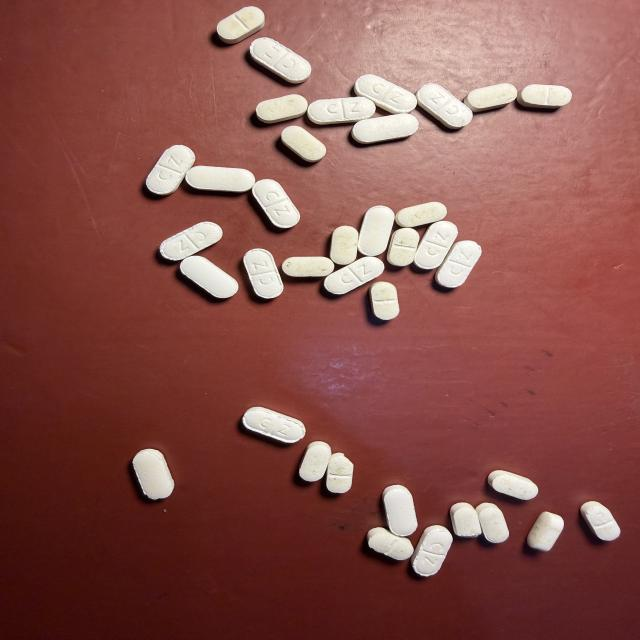pill: (250, 38, 311, 83), (146, 145, 195, 195), (180, 256, 238, 298), (417, 84, 472, 128), (354, 75, 416, 114), (160, 222, 222, 260), (252, 180, 300, 228), (243, 407, 305, 443), (324, 257, 384, 294), (435, 241, 481, 288), (414, 221, 457, 269), (133, 449, 174, 499), (412, 525, 452, 576), (244, 249, 283, 299), (352, 114, 418, 143), (308, 97, 375, 124), (358, 206, 394, 256), (186, 166, 255, 192), (382, 485, 417, 536), (217, 7, 264, 43), (281, 126, 326, 162), (580, 501, 620, 540), (255, 94, 308, 123), (464, 84, 517, 112), (367, 528, 413, 560), (527, 512, 563, 551), (488, 471, 538, 499), (476, 503, 508, 543), (299, 442, 331, 482), (517, 85, 572, 108), (396, 202, 446, 227), (387, 228, 419, 266), (370, 282, 399, 320), (330, 226, 358, 264), (450, 503, 481, 537), (282, 257, 334, 277), (327, 453, 353, 493)
